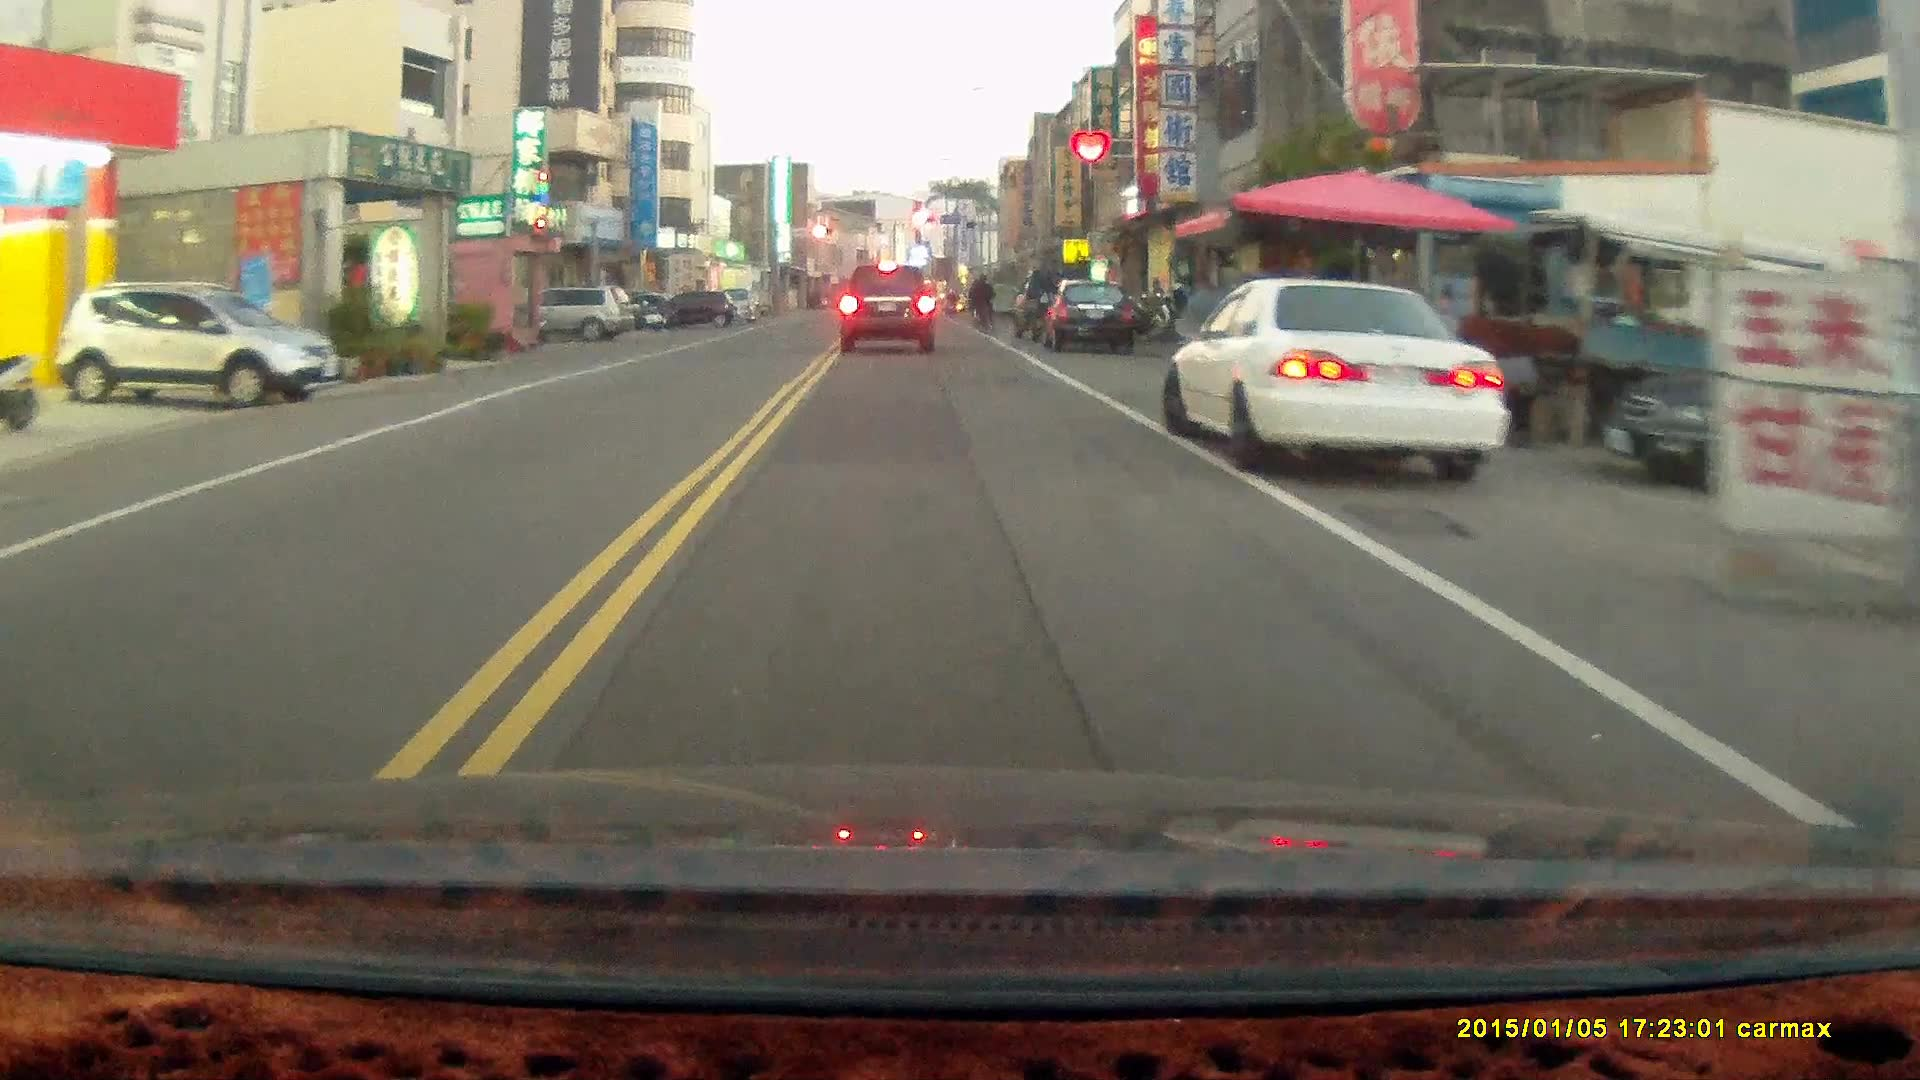rider: (969, 274, 996, 335)
vehicle: (1165, 277, 1509, 479), (51, 285, 336, 408), (840, 263, 938, 358), (1046, 282, 1142, 354), (535, 288, 634, 342)
